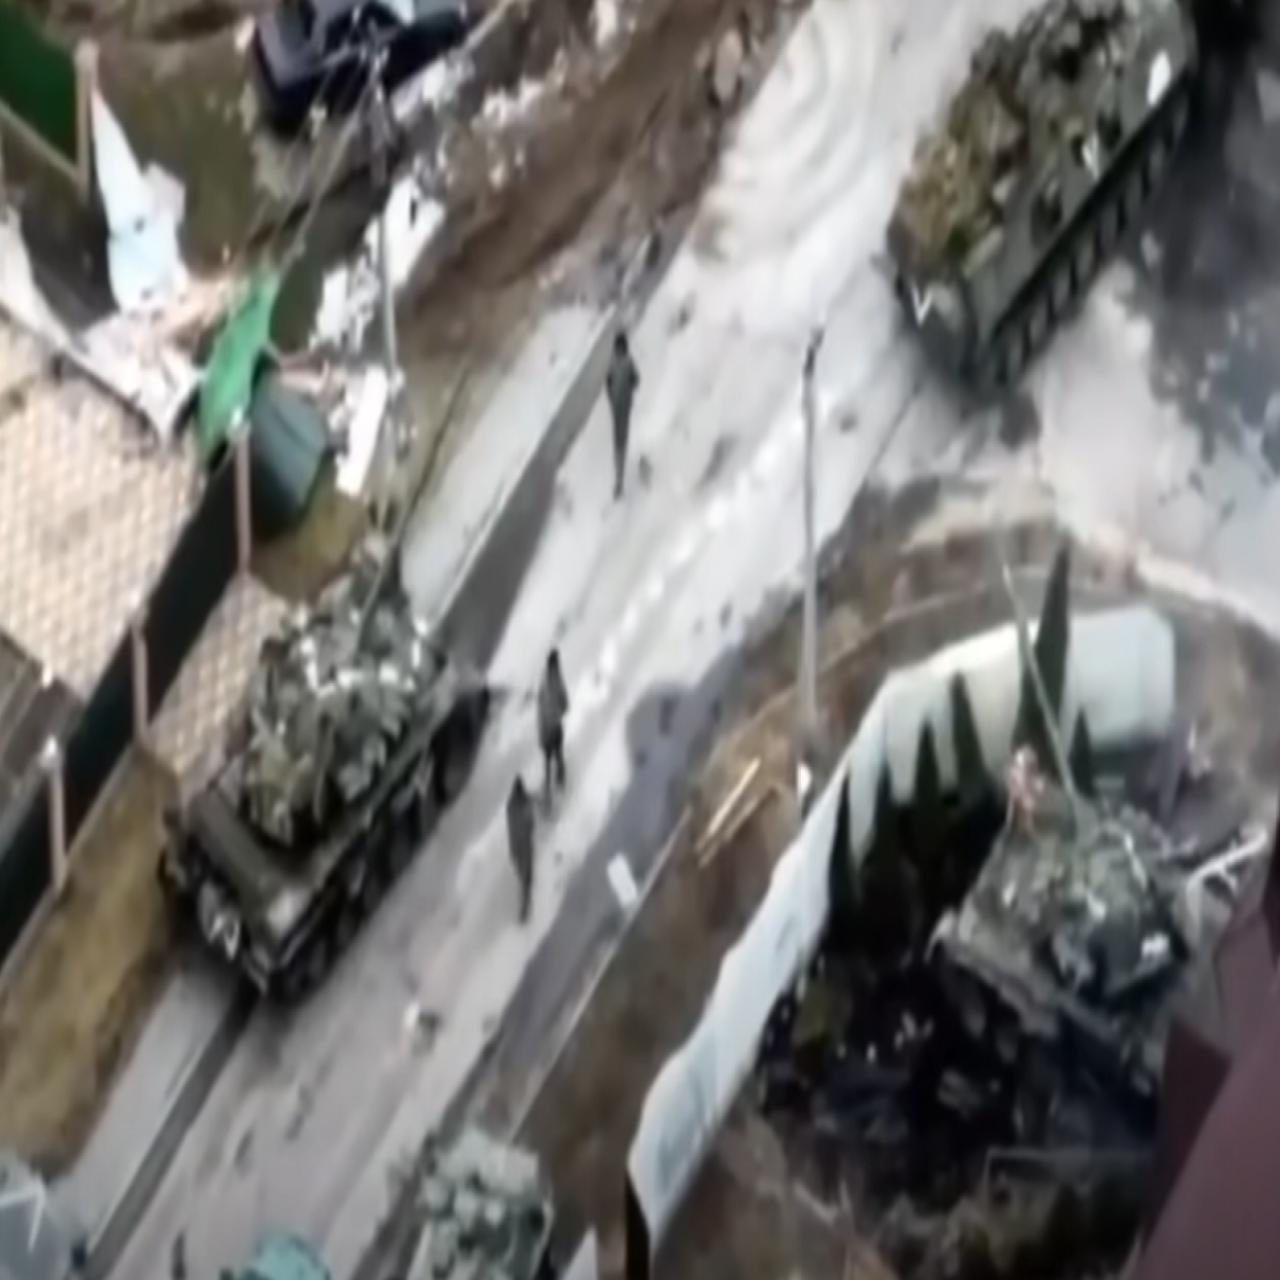MIL_Veh: (158, 358, 489, 1024), (926, 559, 1239, 1137)
